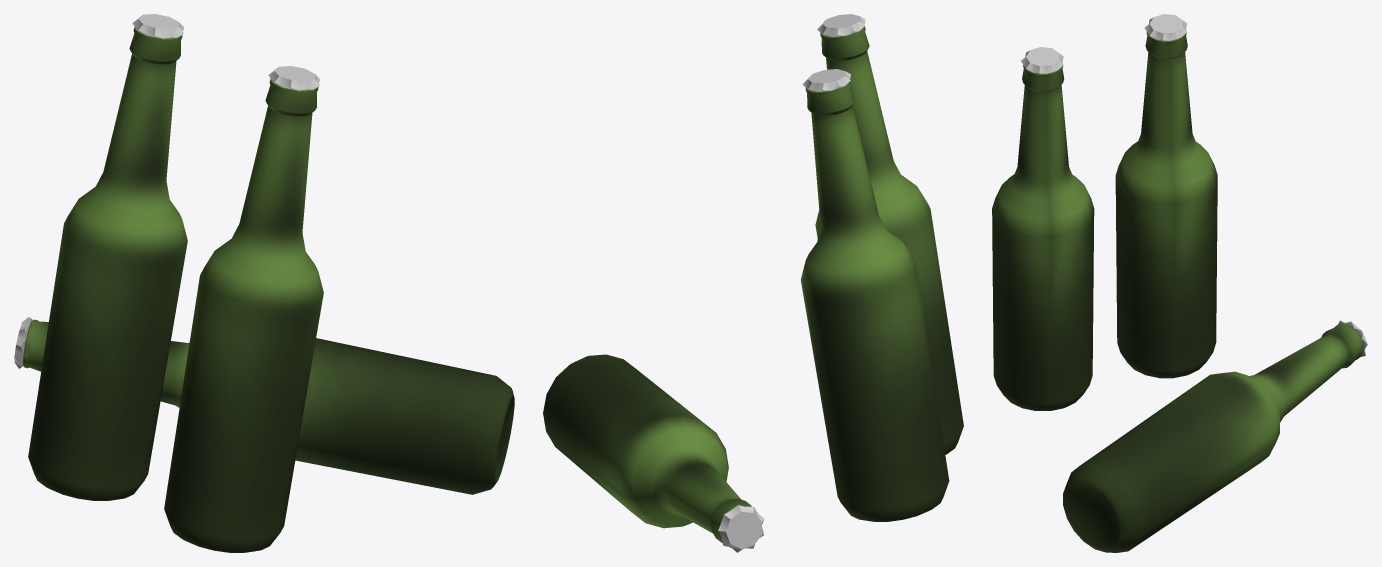
The model's file is soju1.obj.
The picture shows the model from 3 angles, left to right: view 1: azimuth 30°, elevation 25°; view 2: azimuth 150°, elevation 25°; view 3: azimuth 270°, elevation 25°; orthographic projection. The views are drawn at different scales.
Bounding box in the file's own units: 7.29 × 7.95 × 6.48.
